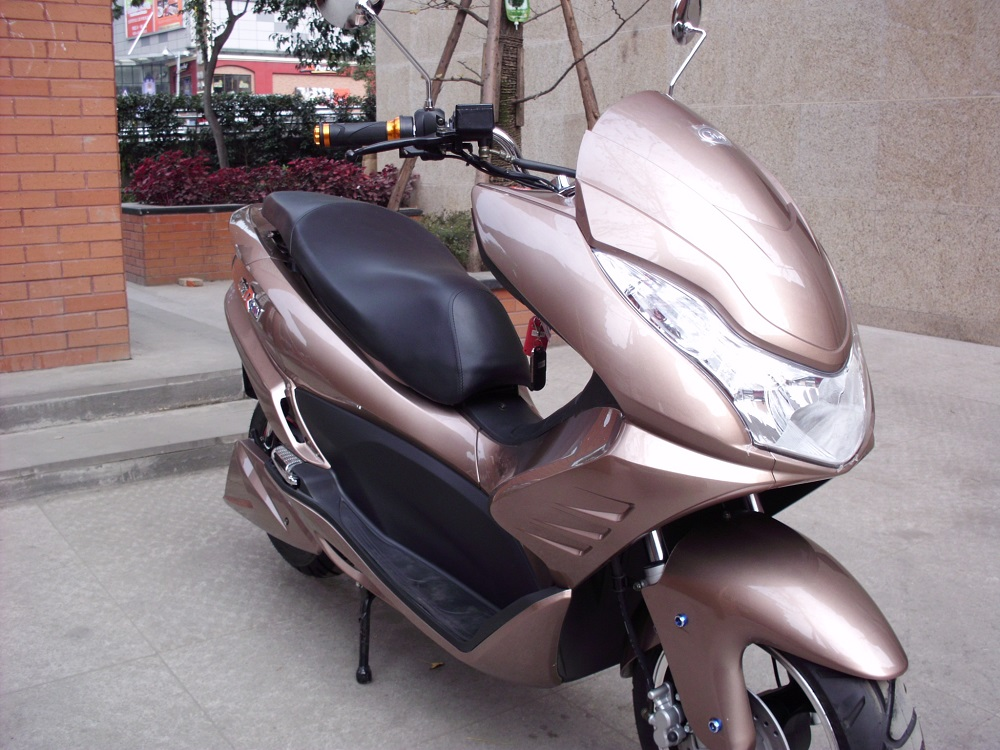电动车: (194, 1, 939, 744)
